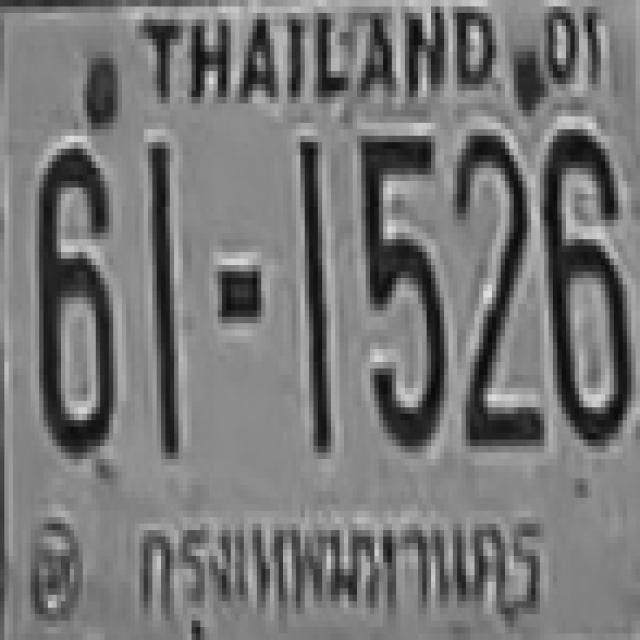1: (298, 136, 324, 414)
2: (453, 132, 531, 430), (451, 129, 529, 420)
5: (359, 129, 442, 446)
6: (540, 123, 627, 440), (35, 142, 113, 453)
Bangkok: (130, 509, 554, 640)
